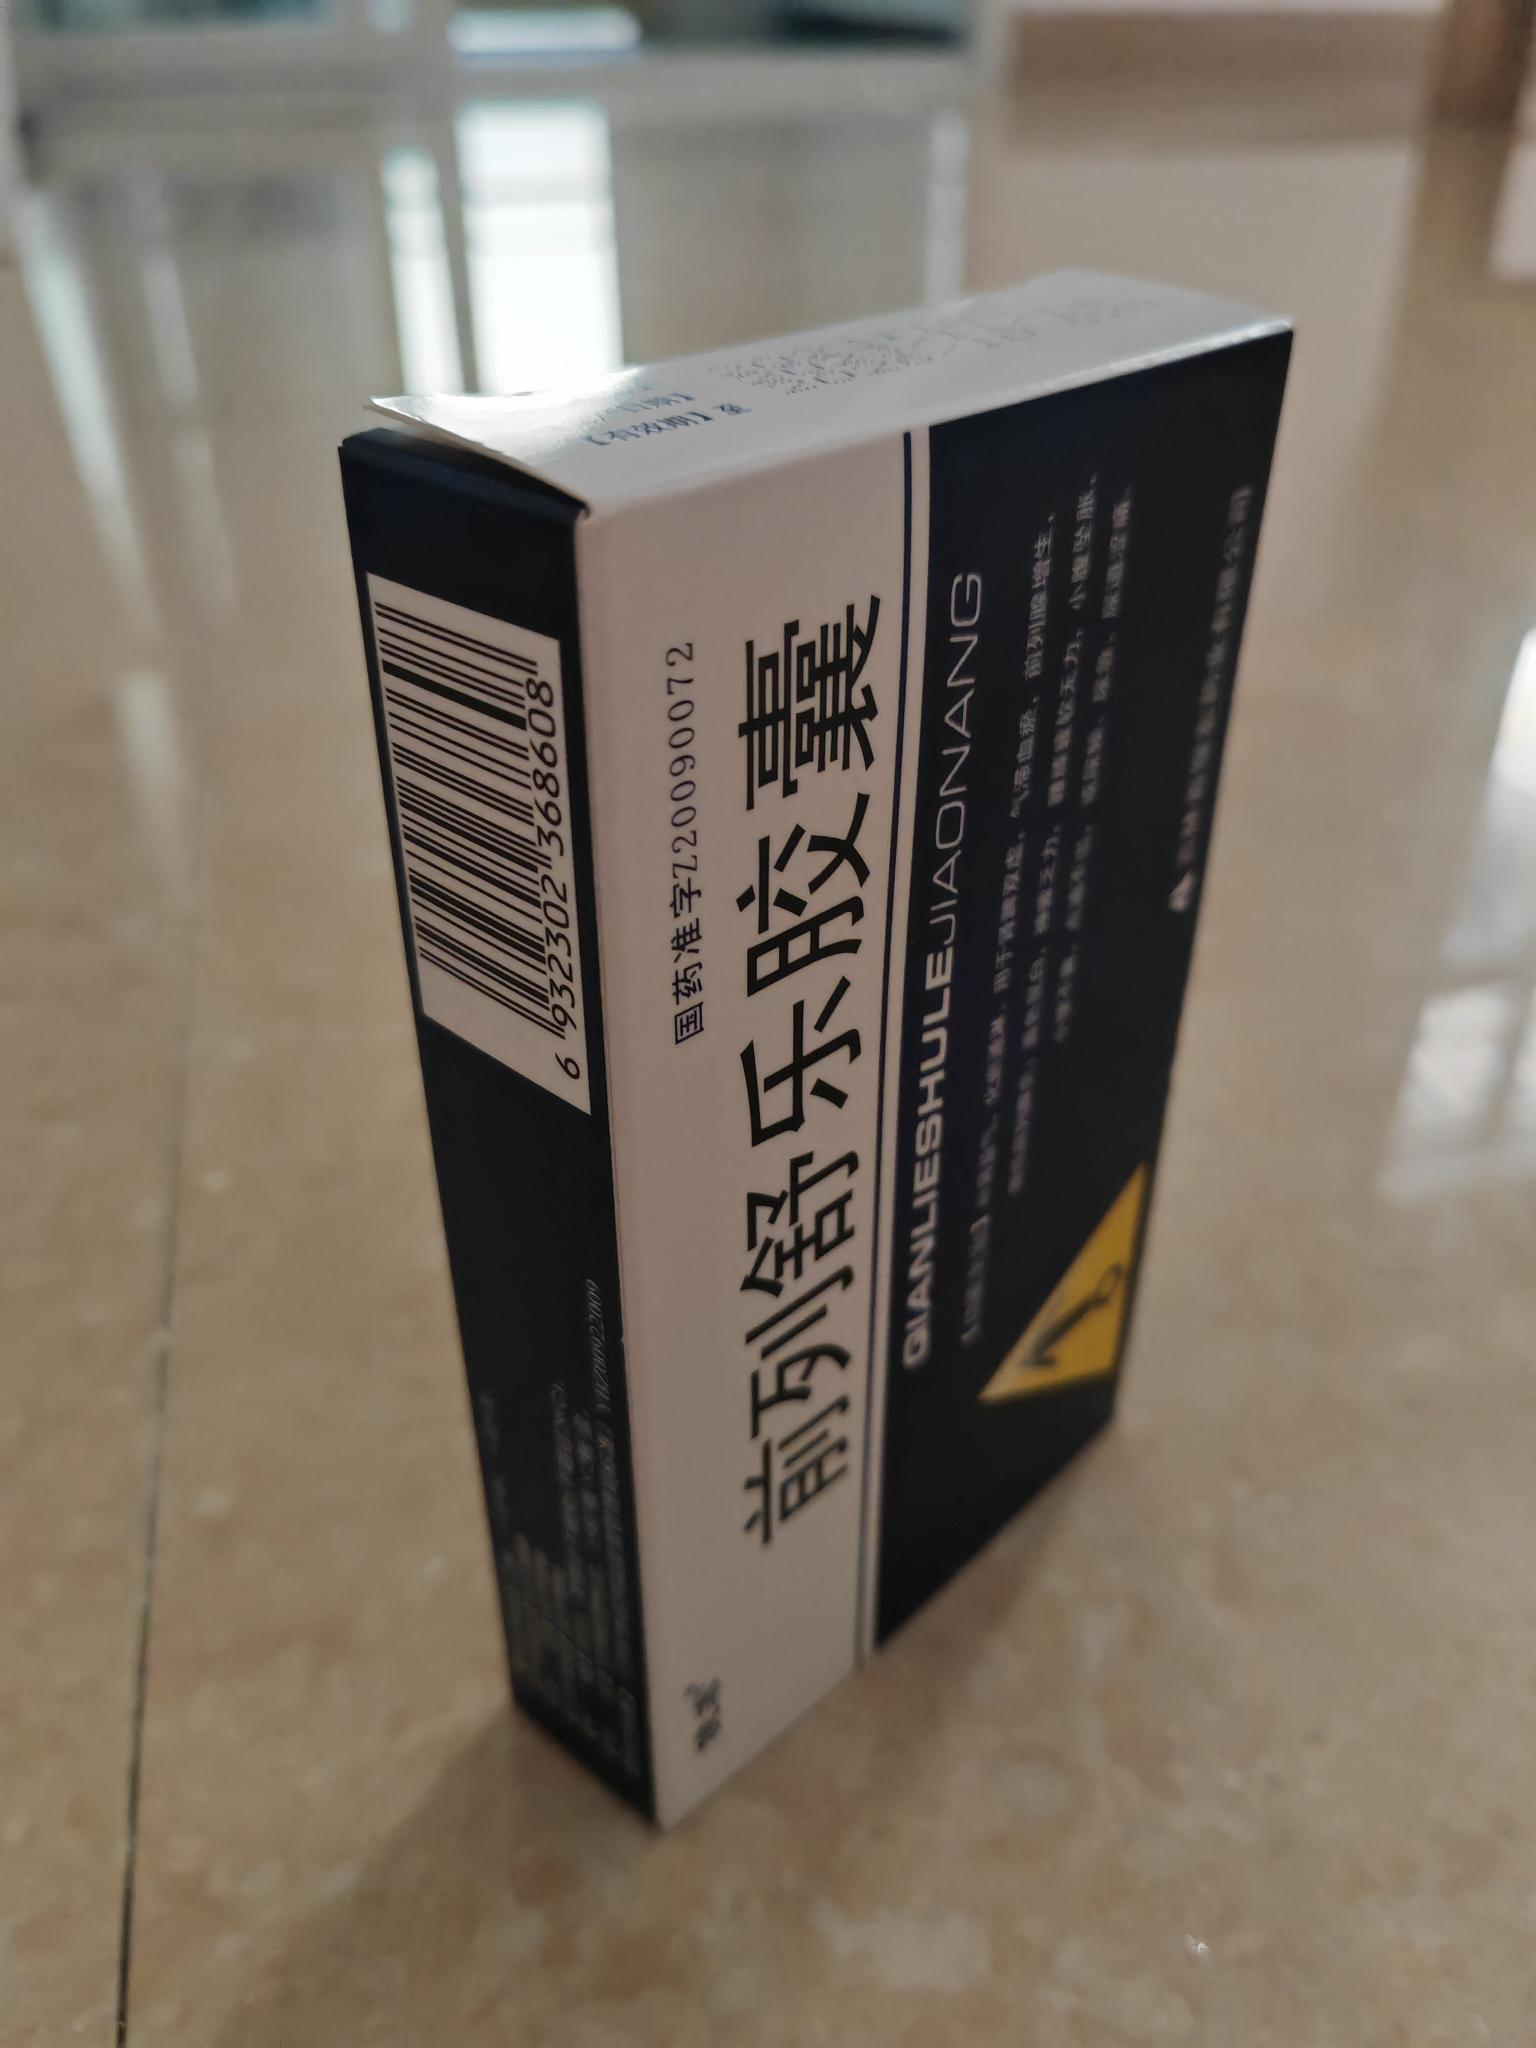Medicine2: (319, 242, 1325, 1859)
